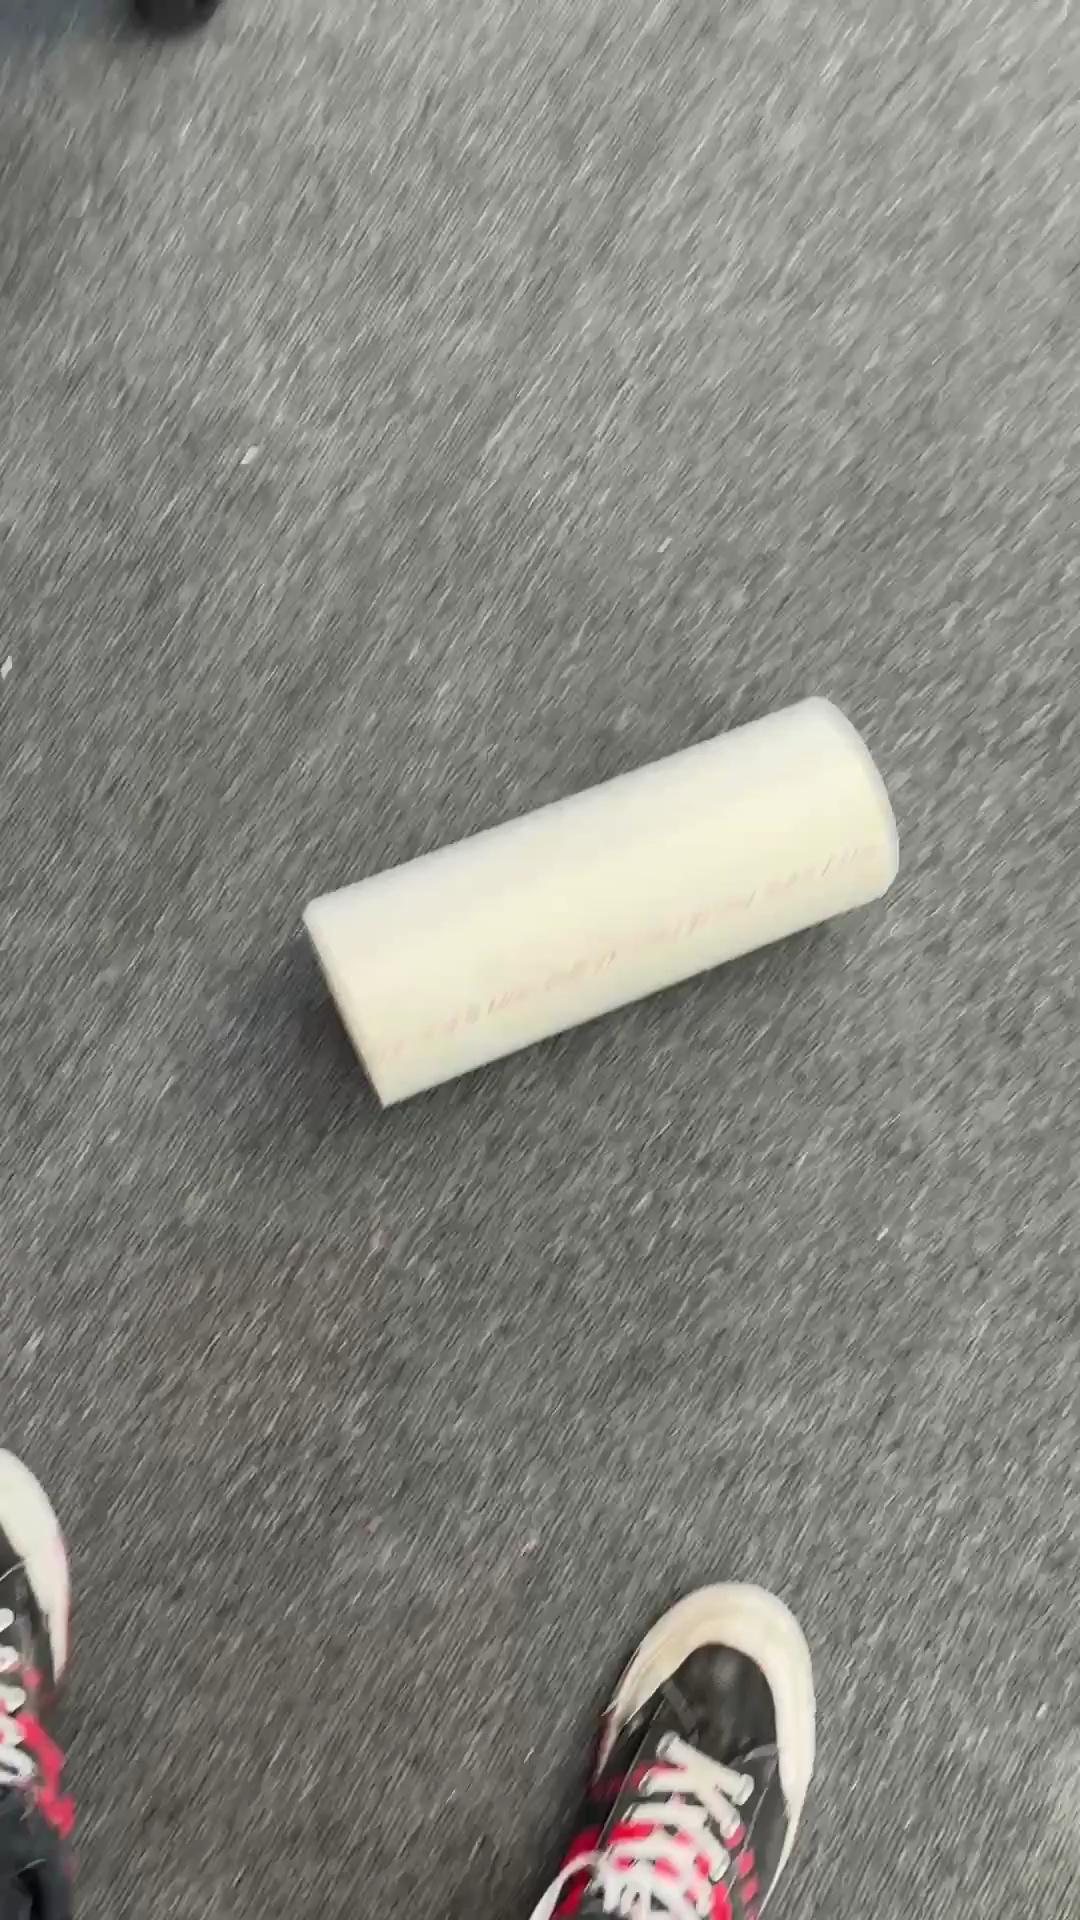CORAL: (299, 691, 901, 1109)
